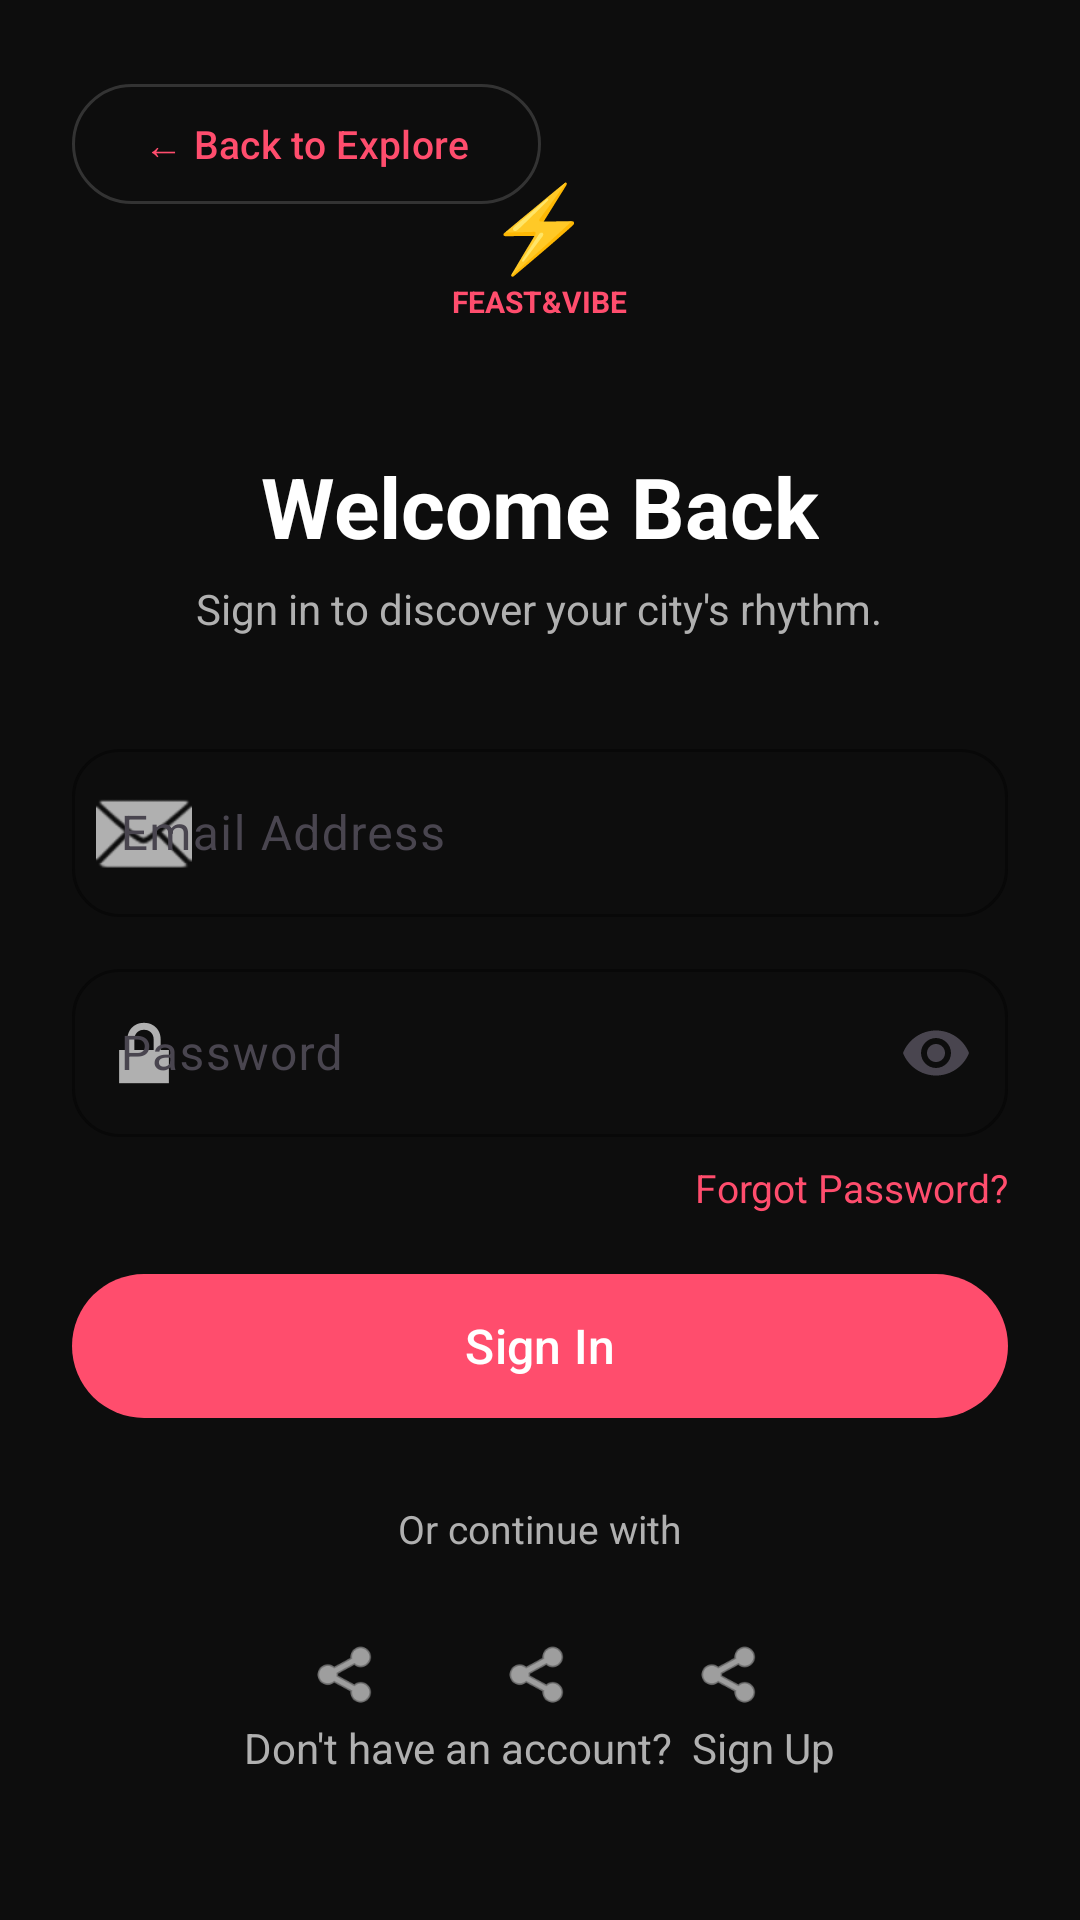

Icons on this 1080w x 1920h Android screen, each with the point to tap as point (x, y):
share: point (344, 1694), point (536, 1674), point (728, 1692)
